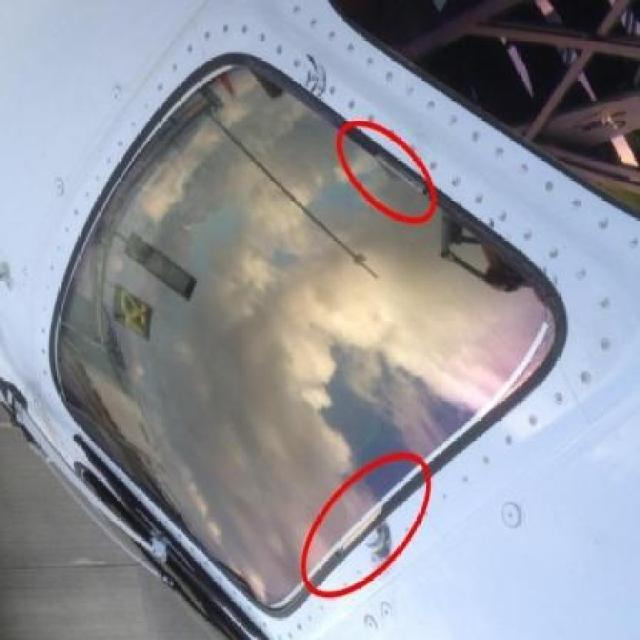crack: (304, 52, 329, 97)
